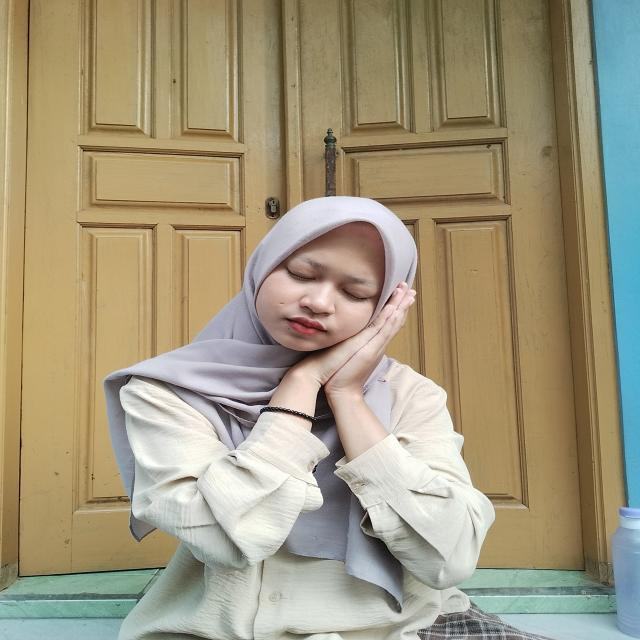tidur: (232, 285, 420, 442)
